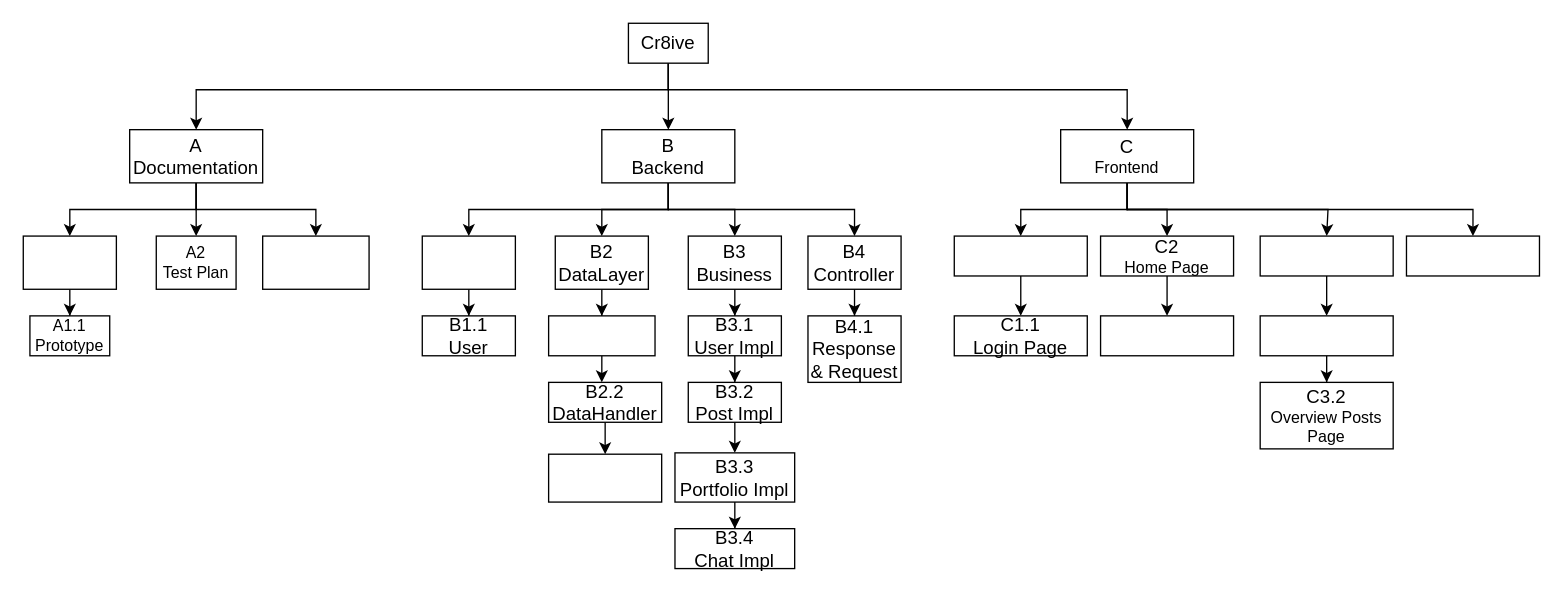
The diagram is 1563 pixels wide and 595 high, and some of its shapes have lost their labels. The centre of each missing label's shape, as x and y in pixels:
A1 Project Plan: (69,262)
A3 User stories: (315,262)
B1 Database: (468,262)
B2.1 Connection: (601,335)
B2.3 Repository: (604,477)
C1 Register Page: (1020,255)
C2.1 Search Page: (1166,335)
C3 Profile Page: (1326,255)
C3.1 Portfolio Page: (1326,335)
C4 Chat Page: (1472,255)
